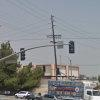Traffic light: (16, 45, 82, 64)
